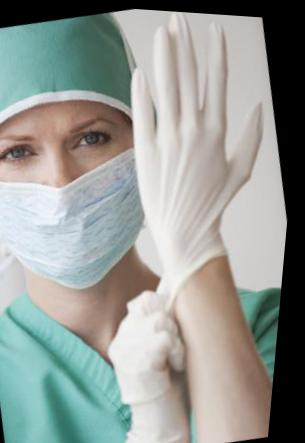WRONG: (1, 85, 176, 304)
